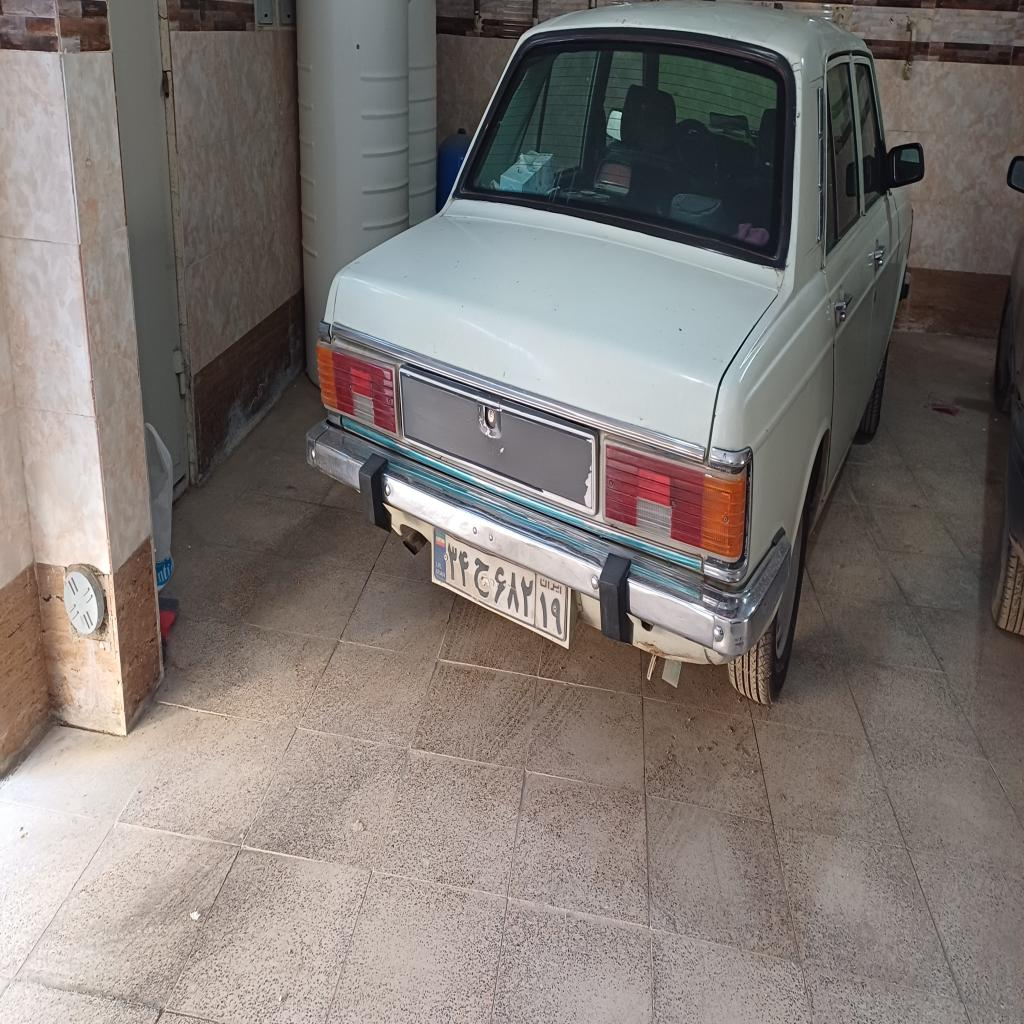Plates: (432, 528, 568, 652)
